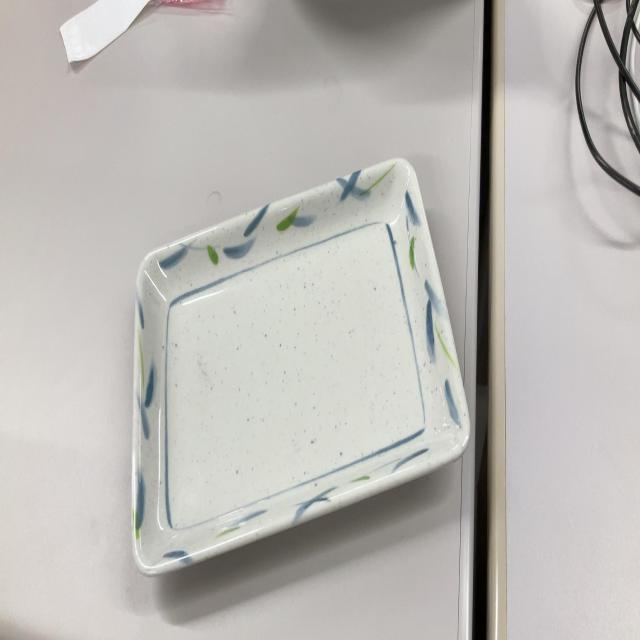plate: (129, 155, 472, 582)
